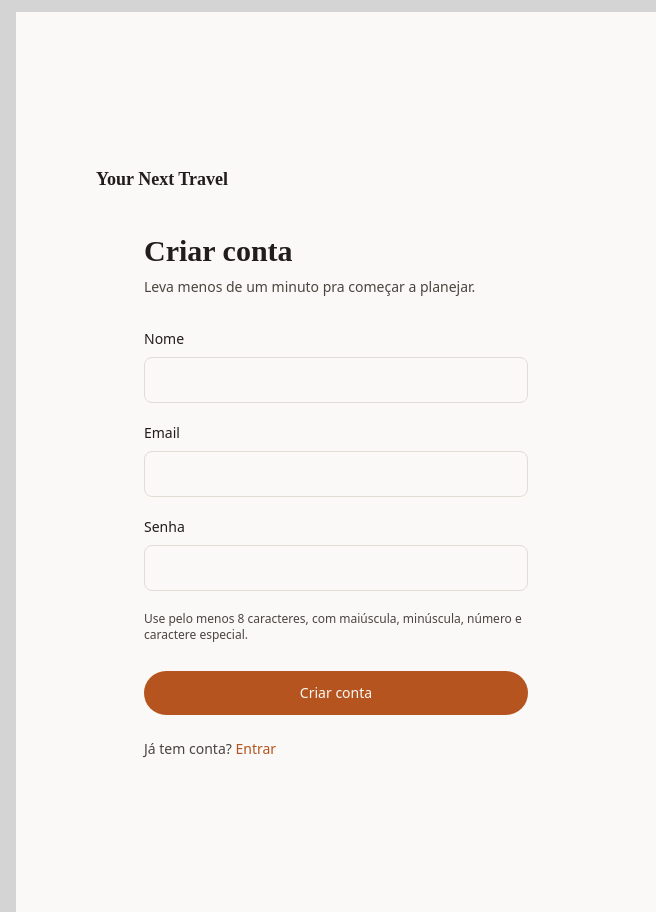
auth flow › shows client-side validation errors for a weak password
This screenshot has width=656, height=912.
Type "Ana Viajante" into the field labelled "Nome" at (336, 380), box [144,357,528,403]
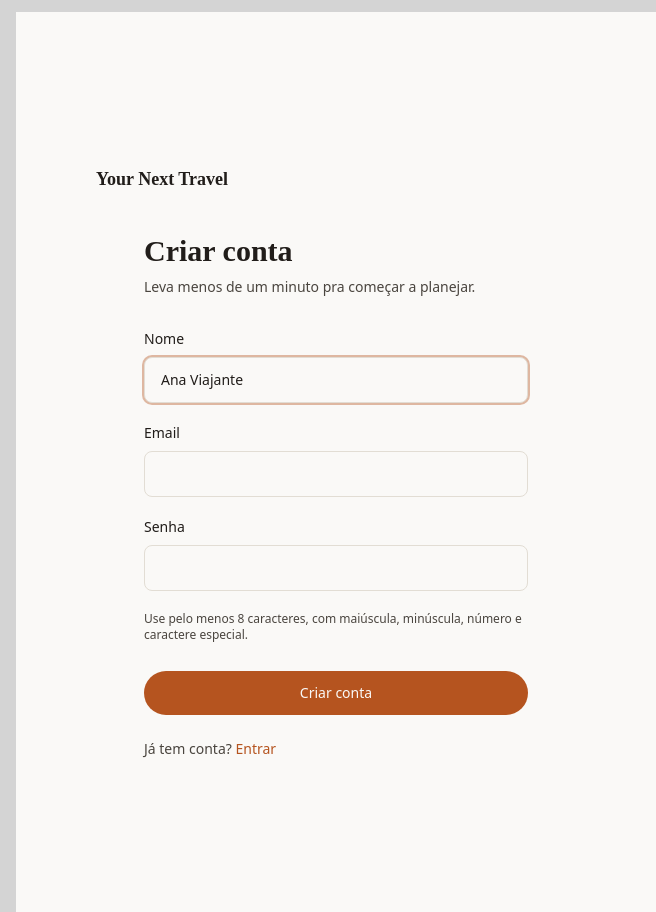
Type "ana@example.com" into the field labelled "Email" at (336, 474), box [144,451,528,497]
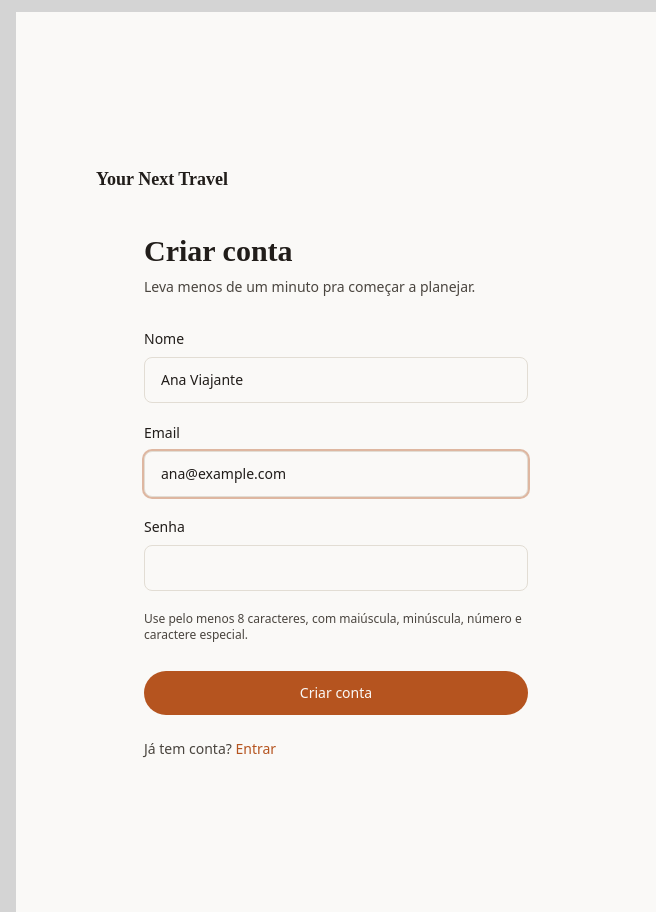
Type "123" into the password field labelled "Senha" at (336, 568), box [144,545,528,591]
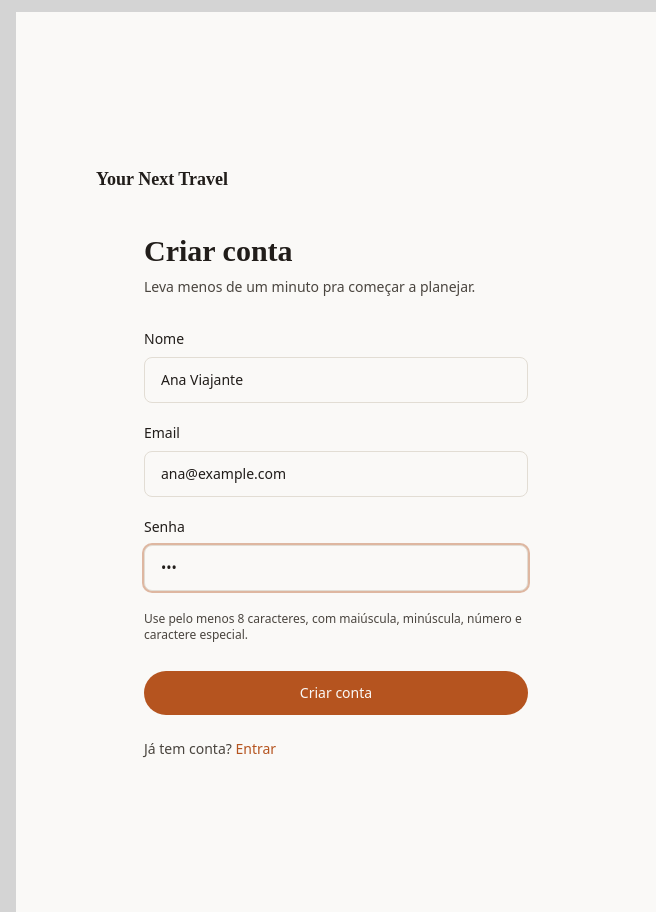
Click the button "Criar conta" at (336, 693), box [144,671,528,715]
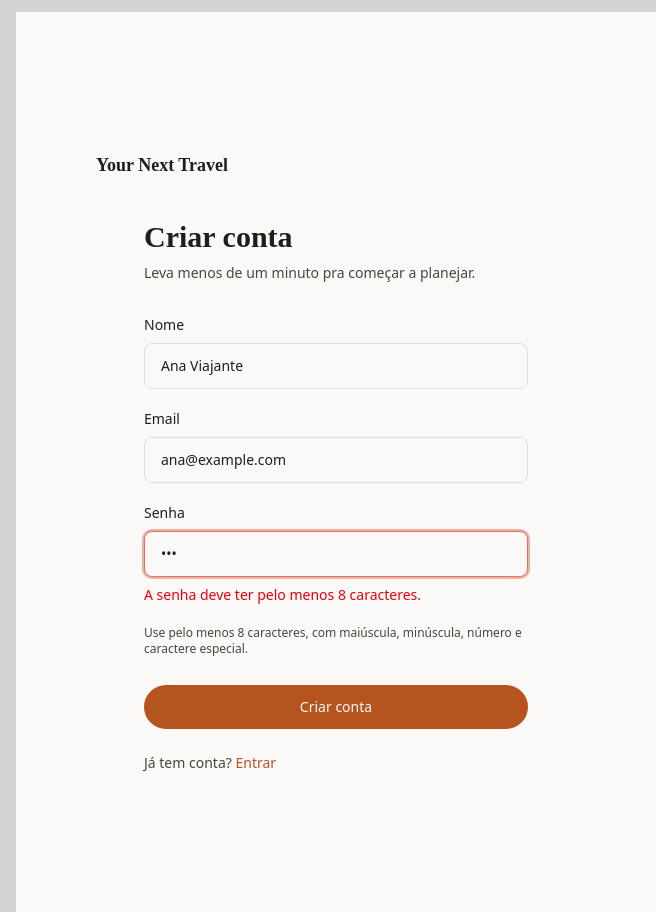
Check: the text "A senha deve ter pelo menos 8 caracteres." is shown, box [144,585,421,604]
